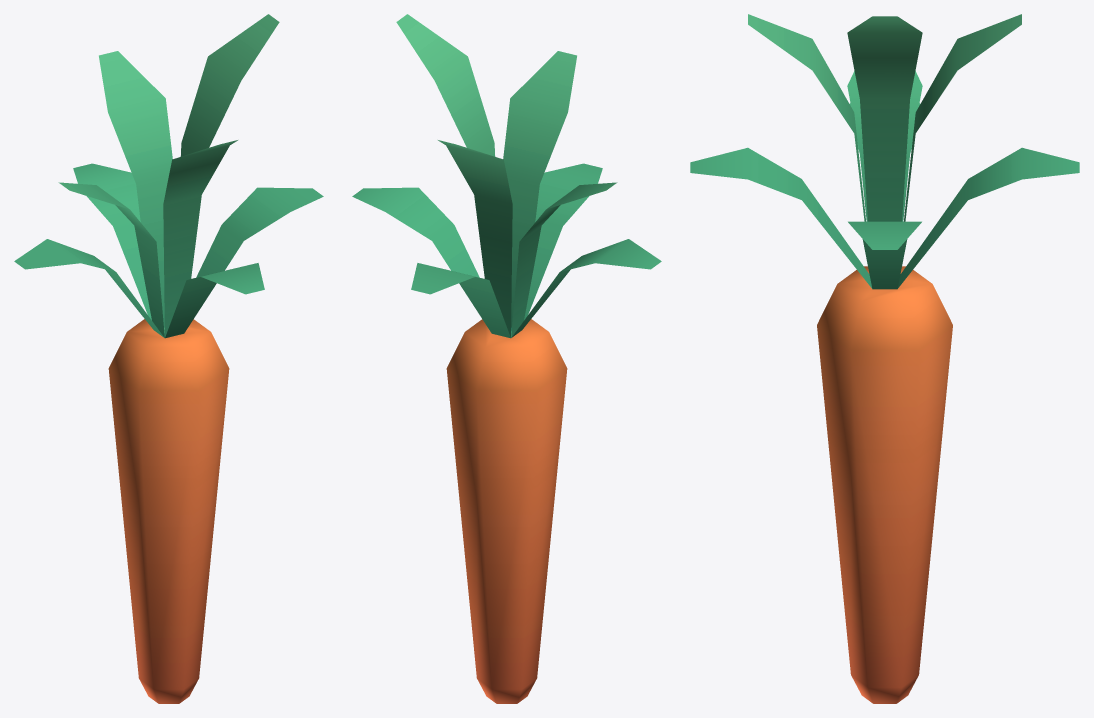
File: carrot.glb
3 renders of one model, left to right at view 1: azimuth 30°, elevation 25°; view 2: azimuth 150°, elevation 25°; view 3: azimuth 270°, elevation 25°, orthographic. The views are drawn at different scales.
Visible parts, largest first — view 1: carrot; view 2: carrot; view 3: carrot.
Part boxes in pixels (x1,y1,x2,y2): carrot: (14,14,323,703); carrot: (352,14,661,703); carrot: (690,14,1079,703).
Bounding box in the file's own units: 0.3431 × 0.7163 × 0.3431.
Materials: 1 (1 with a texture image).
